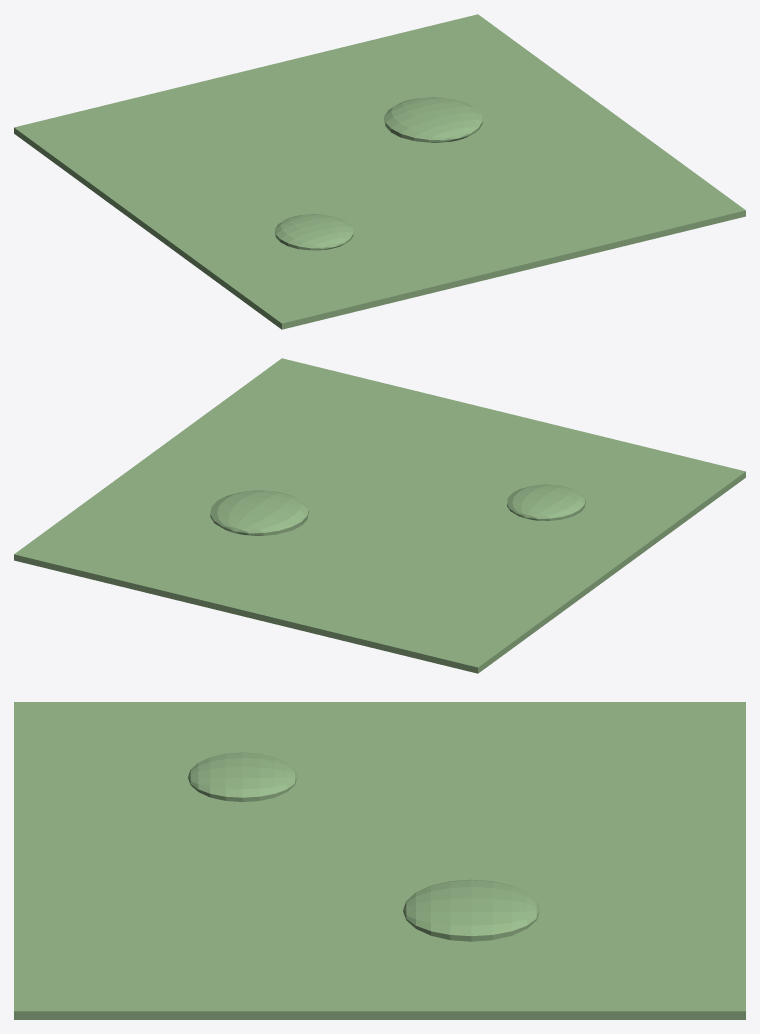
Rendered from dartmouth_plain_tile.glb.
The picture shows the model from 3 angles, top to bottom: view 1: azimuth 30°, elevation 25°; view 2: azimuth 150°, elevation 25°; view 3: azimuth 270°, elevation 25°; orthographic projection. The views are drawn at different scales.
Parts seen in each view (by area): view 1: tile, bump1, bump2; view 2: tile, bump1, bump2; view 3: tile, bump1, bump2.
Part boxes in pixels (x1,y1,x2,y2): tile: (14, 14, 745, 329); bump1: (384, 97, 482, 142); bump2: (275, 214, 353, 250); tile: (14, 358, 745, 673); bump1: (210, 490, 308, 535); bump2: (507, 484, 585, 520); tile: (14, 702, 745, 1019); bump1: (403, 879, 539, 941); bump2: (188, 752, 297, 801).
Size of the model in its own units: 16 by 0.6014 by 16.
